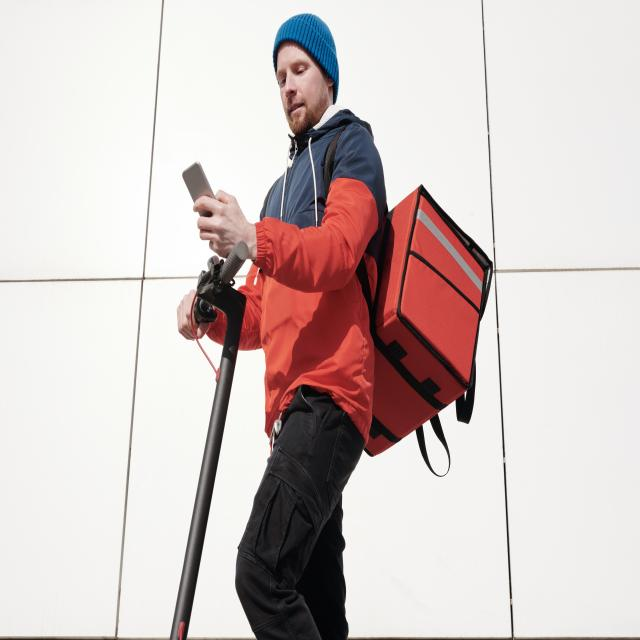phone: (180, 158, 217, 234)
